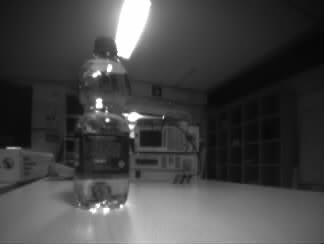Bottle: (71, 37, 131, 206)
